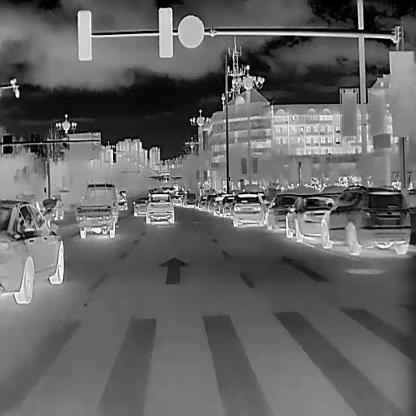car: (0, 199, 62, 302), (321, 184, 410, 254), (75, 182, 118, 237), (285, 196, 334, 241), (232, 190, 268, 227), (267, 193, 295, 233), (146, 193, 174, 224), (41, 198, 63, 219), (212, 193, 231, 216), (219, 195, 235, 219), (132, 197, 146, 215), (204, 194, 217, 212), (182, 193, 196, 209), (118, 193, 128, 209), (198, 194, 208, 210), (173, 194, 183, 205), (119, 190, 126, 197), (173, 184, 177, 191), (169, 187, 173, 192), (162, 188, 166, 192), (153, 188, 156, 192)
